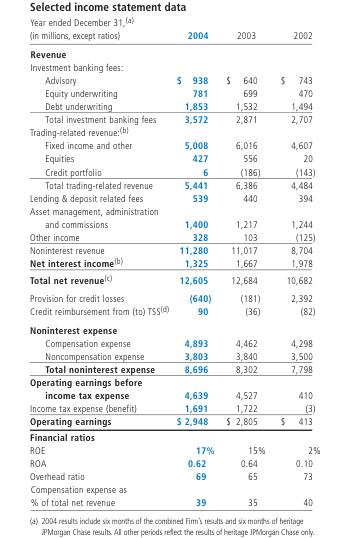table: (28, 29, 319, 507)
table column: (28, 29, 171, 507), (219, 29, 272, 507), (171, 29, 219, 507), (272, 29, 319, 507)
table column header: (28, 29, 319, 44)
table projected row header: (28, 44, 319, 60), (28, 320, 319, 335), (28, 124, 319, 138), (28, 428, 319, 442), (28, 60, 319, 73)
table row: (28, 204, 319, 230), (28, 375, 319, 401), (28, 482, 319, 507), (28, 270, 319, 288), (28, 303, 319, 320), (28, 44, 319, 60), (28, 29, 319, 44), (28, 255, 319, 270), (28, 288, 319, 303), (28, 320, 319, 335), (28, 124, 319, 138), (28, 190, 319, 204), (28, 361, 319, 375), (28, 414, 319, 428), (28, 428, 319, 442), (28, 468, 319, 482), (28, 60, 319, 73), (28, 73, 319, 86), (28, 86, 319, 99), (28, 99, 319, 112), (28, 138, 319, 151), (28, 151, 319, 164), (28, 164, 319, 177), (28, 177, 319, 190), (28, 230, 319, 243), (28, 335, 319, 348), (28, 348, 319, 361), (28, 401, 319, 414), (28, 442, 319, 455), (28, 455, 319, 468), (28, 112, 319, 124), (28, 243, 319, 255)
